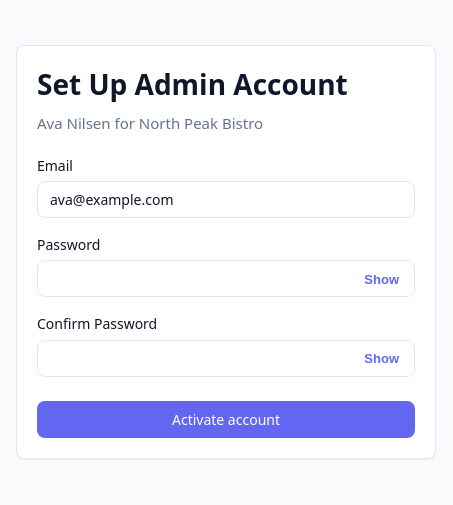
Test: AdminSetupView › loads setup info and completes account setup
Expected: the field showing "ava@example.com" is shown, [37, 181, 415, 218]
Type "superSecret123" into the password field labelled "Password".
click(226, 279); type("superSecret123")  # box [37, 260, 415, 297]
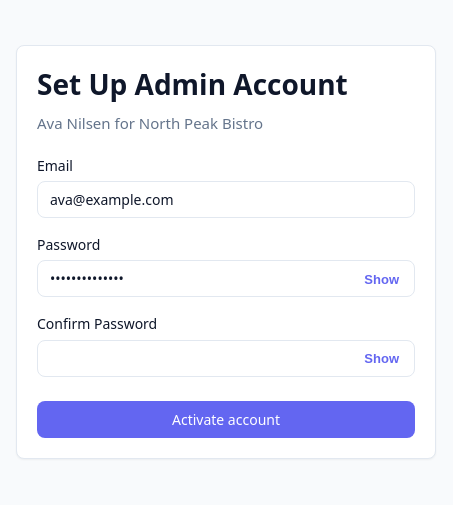
Type "superSecret123" into the password field labelled "Confirm Password".
click(226, 358); type("superSecret123")  # box [37, 340, 415, 377]
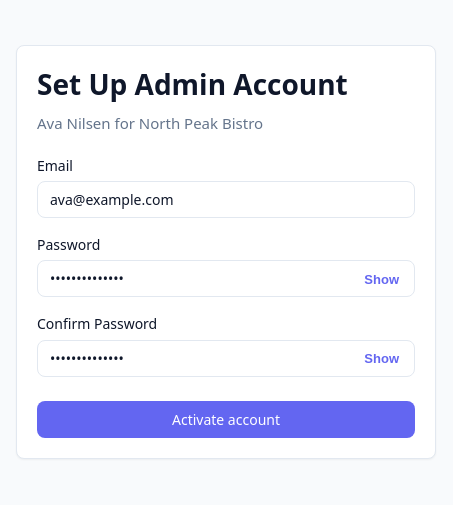
Click the button "Activate account".
click(226, 419)  # box [37, 401, 415, 438]
Wait 1200 ms
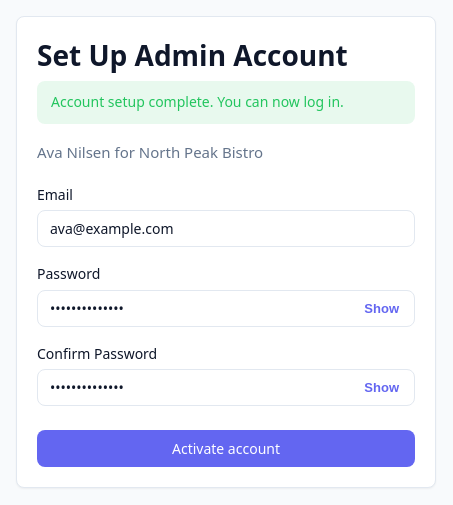
Expected: the text "Account setup complete. You can now log in." is shown, [37, 81, 415, 124]
